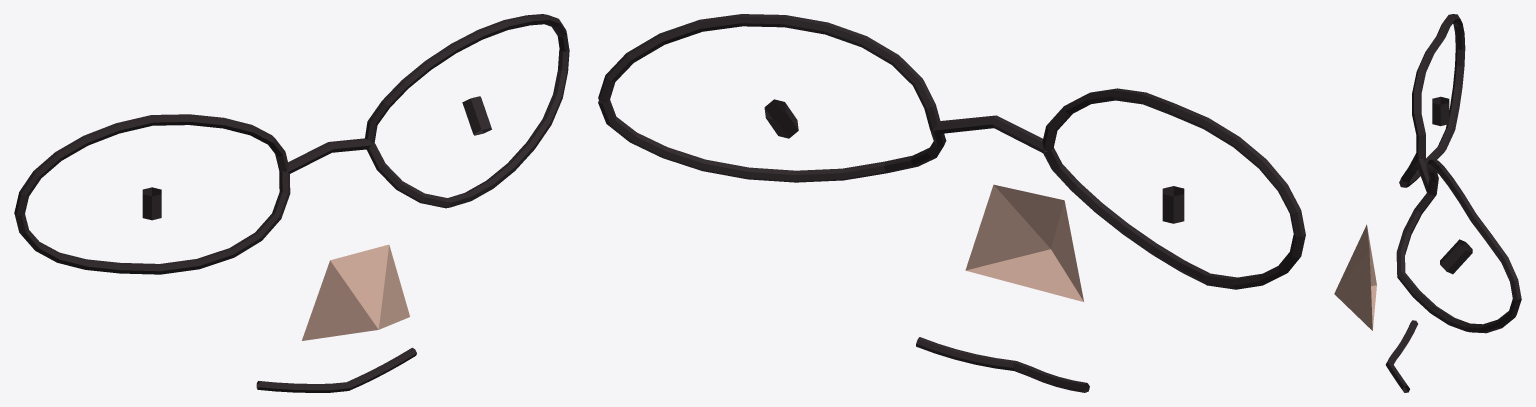
The model's file is face-details.glb.
The picture shows the model from 3 angles, left to right: view 1: azimuth 30°, elevation 25°; view 2: azimuth 150°, elevation 25°; view 3: azimuth 270°, elevation 25°; orthographic projection. The views are drawn at different scales.
Visible parts, largest first — view 1: face_details, nose; view 2: face_details, nose; view 3: face_details, nose.
Boxes of the visible parts, <box> form: face_details: <box>14,14,569,392</box>; nose: <box>302,244,409,340</box>; face_details: <box>598,14,1305,392</box>; nose: <box>965,184,1083,301</box>; face_details: <box>1385,14,1521,392</box>; nose: <box>1334,224,1376,330</box>.
Bounding box in the file's own units: 0.0772 × 0.037 × 0.024.
